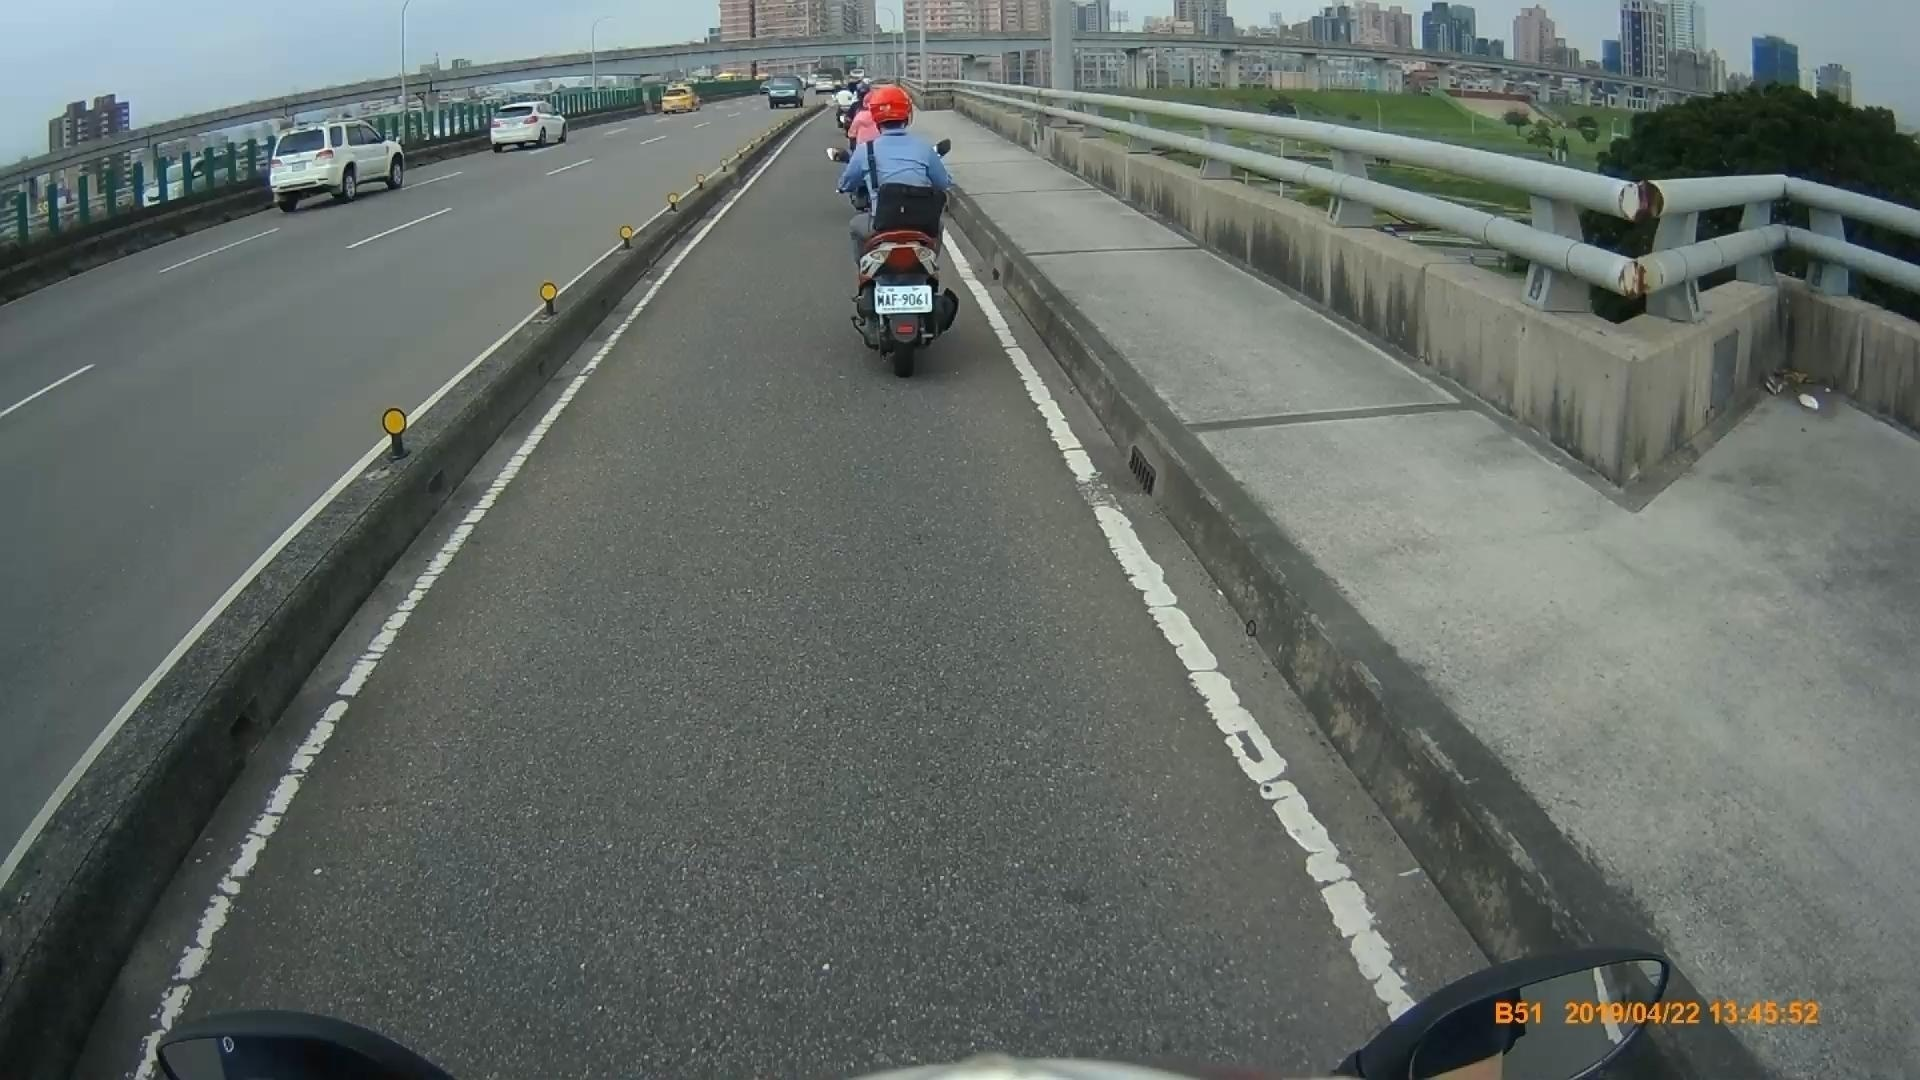License_plate: (874, 282, 935, 317)
